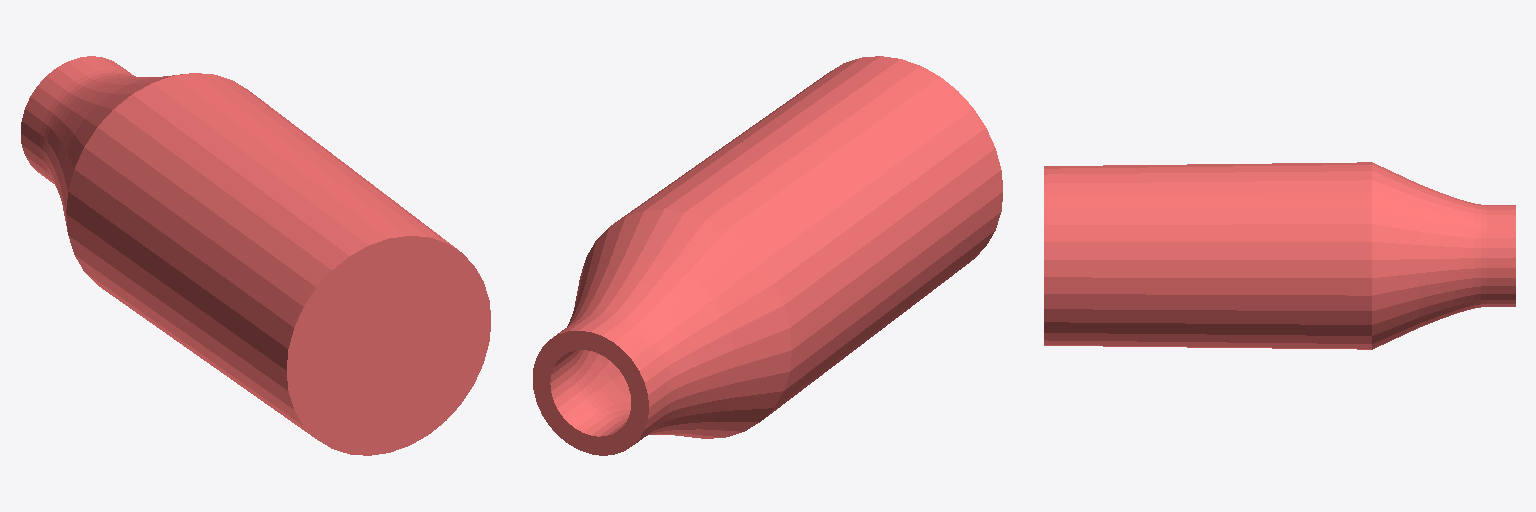
The robot description file, URDF, robot "bottle":
<?xml version="1.0" ?>
<robot name="bottle">
  <link name="world"/>
  <joint name="bottle_to_world" type="floating">
    <parent link="world"/>
    <child link="base_link"/>
    <origin xyz="0 0 0" rpy="0 0 0" />
  </joint>
  <link name="base_link">
    <inertial>
       <origin rpy="0 0 0" xyz="0 0 0"/>
       <mass value="3.4738725955086625"/>
       <inertia ixx="0.046959236538620594" ixy="-9.265565265223644e-11" ixz="4.3013189002483785e-11" iyx="-9.265565265223644e-11" iyy="0.013711497963829911" iyz="1.0751899423558898e-10" izx="4.3013189002483785e-11" izy="1.0751899423558898e-10" izz="0.046959236313723875"/>
    </inertial>
    <visual>
      <origin rpy="0 0 0" xyz="0 0 0"/>
      <geometry> <mesh filename="bottle.obj" scale="1.0 1.0 1.0"/> </geometry>
      <material name="white"> <color rgba="1 0.5 0.5 0.5"/> </material>
    </visual>
    <collision>
      <origin rpy="0 0 0" xyz="0 0 0"/>
      <geometry> <mesh filename="bottle.obj" scale="1.0 1.0 1.0"/> </geometry>
    </collision>
  </link>
</robot>

--- What the picture shows (computed from the rendered views, not written in the file) ---
The picture shows the robot from 3 angles, left to right: view 1: azimuth 30°, elevation 25°; view 2: azimuth 150°, elevation 25°; view 3: azimuth 270°, elevation 25°; orthographic projection.
Model bottle with 2 links and 1 joints (1 floating), rooted at world, posed all joints at 0.
Visible links, largest first — view 1: base_link; view 2: base_link; view 3: base_link.
Link boxes in pixels (x1,y1,x2,y2): base_link: (21,56,490,455); base_link: (533,56,1002,455); base_link: (1044,162,1515,349).
Bounding box of the posed robot: 0.15 × 0.3768 × 0.15 m (x, y, z).
Meshes: 1 distinct files referenced, 1 mesh visuals loaded (1 OBJ).